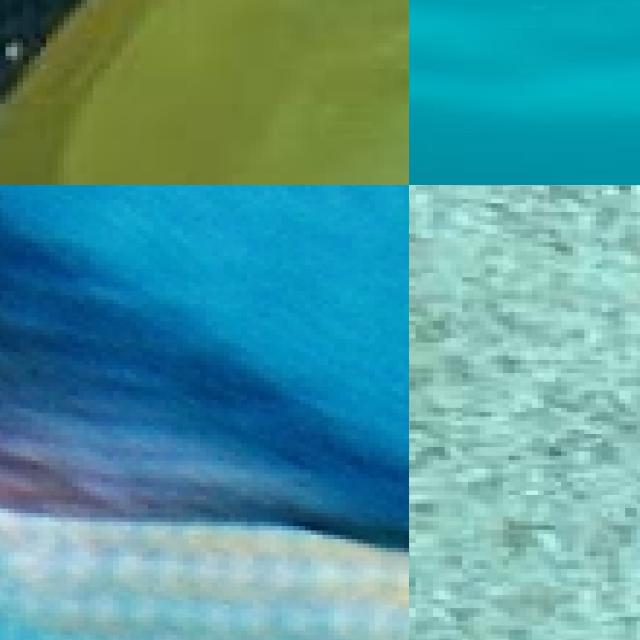fish: (0, 185, 409, 640), (409, 185, 640, 640), (0, 0, 409, 185)
